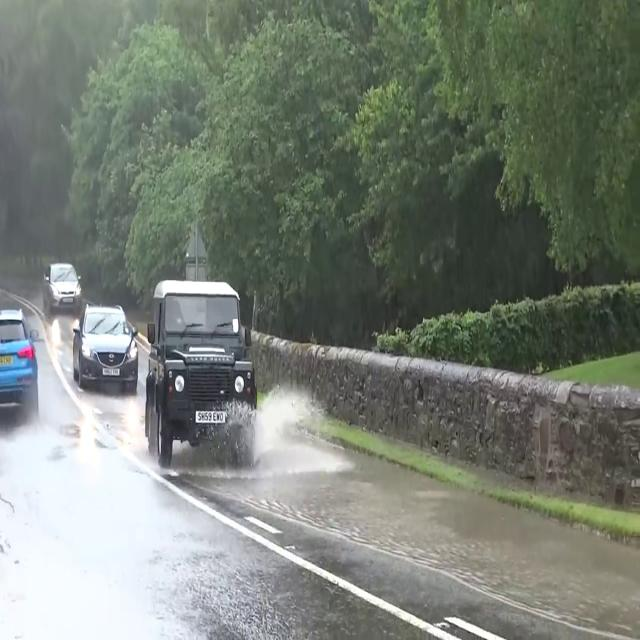license-plate-annotation: (192, 406, 226, 425)
